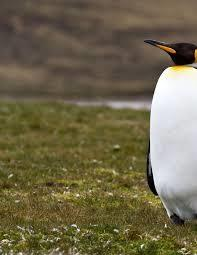king: (127, 29, 197, 238)
